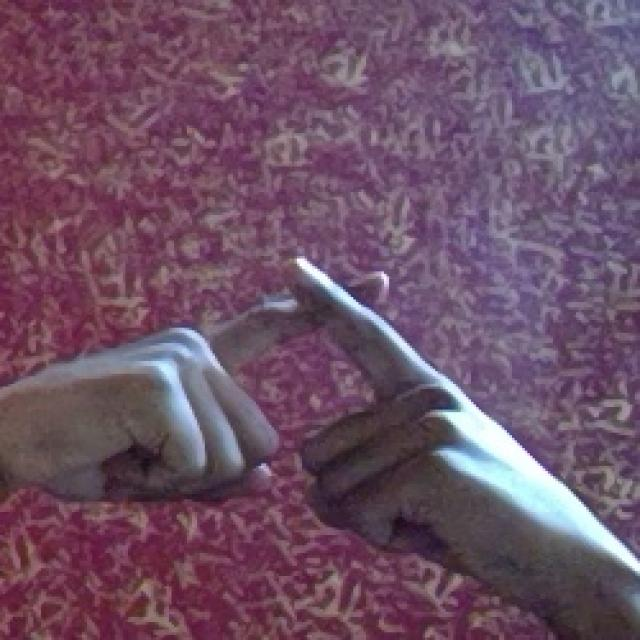Alphabet-X: (2, 238, 595, 596)
